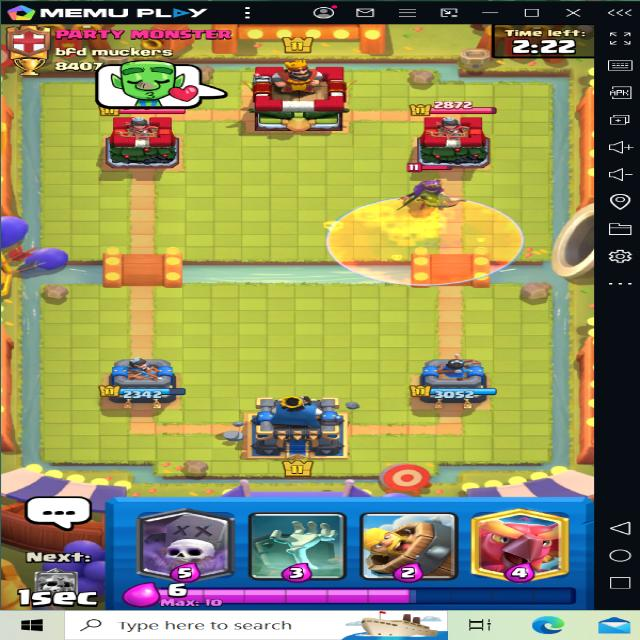archer-queen: (392, 160, 460, 215)
